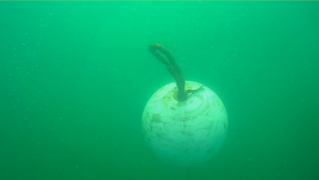buoy: (141, 80, 229, 169)
